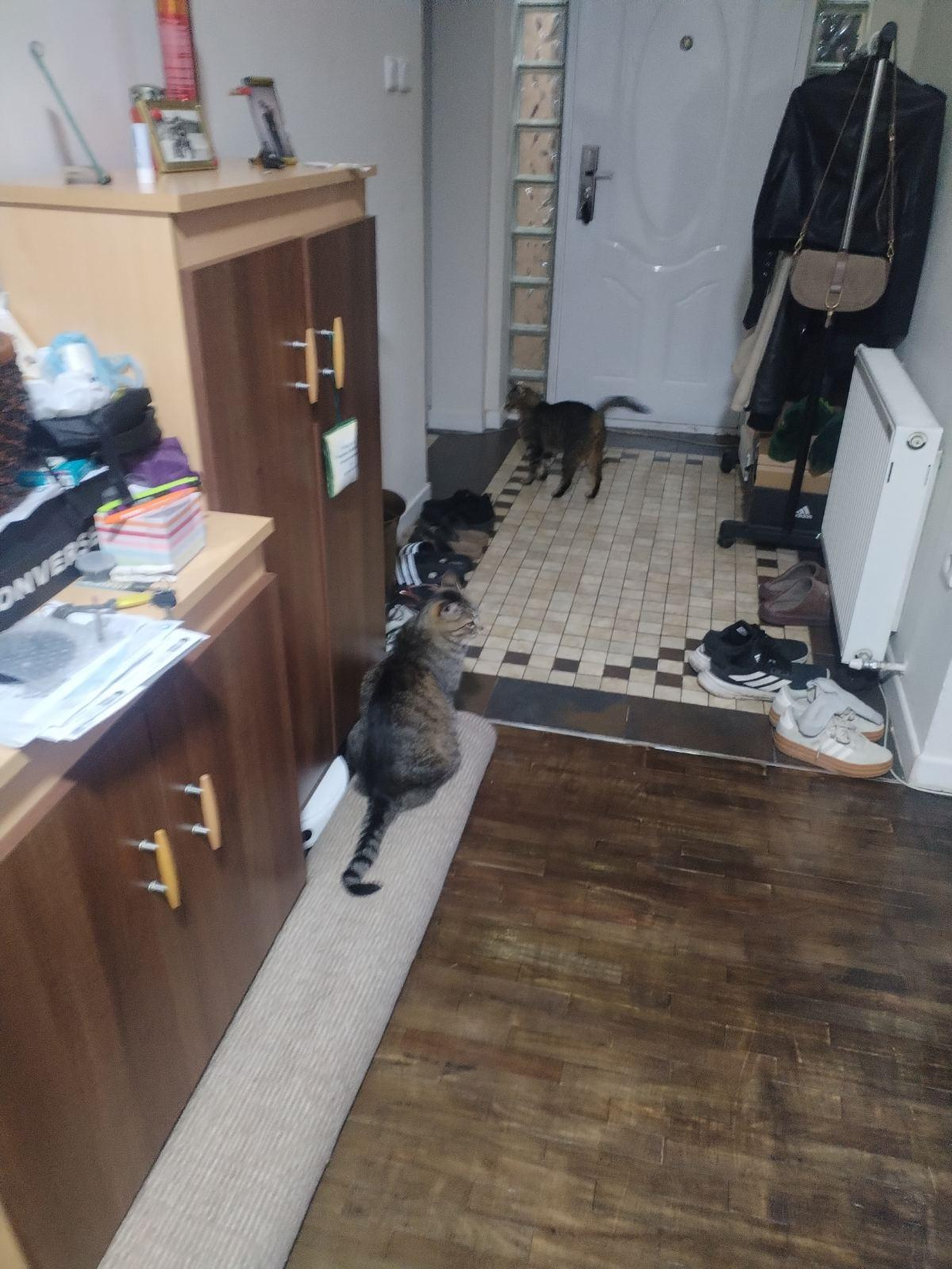macka: (342, 568, 491, 897), (504, 383, 650, 500)
